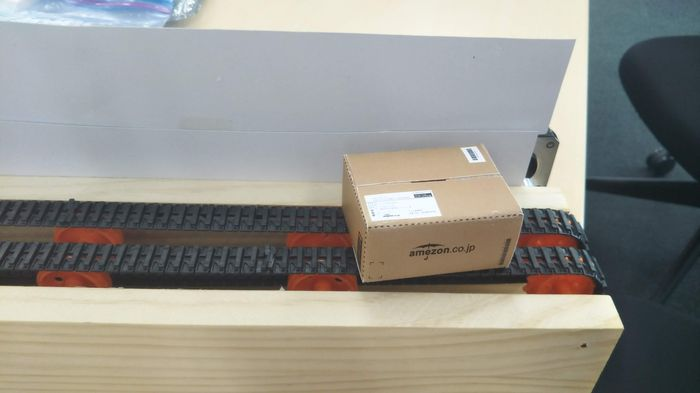box1: (337, 141, 527, 289)
